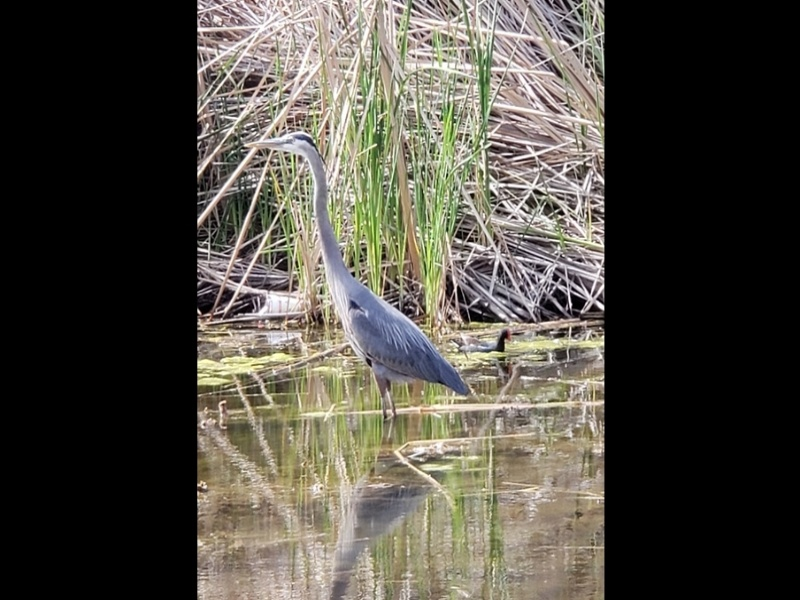heron: (243, 132, 482, 460)
